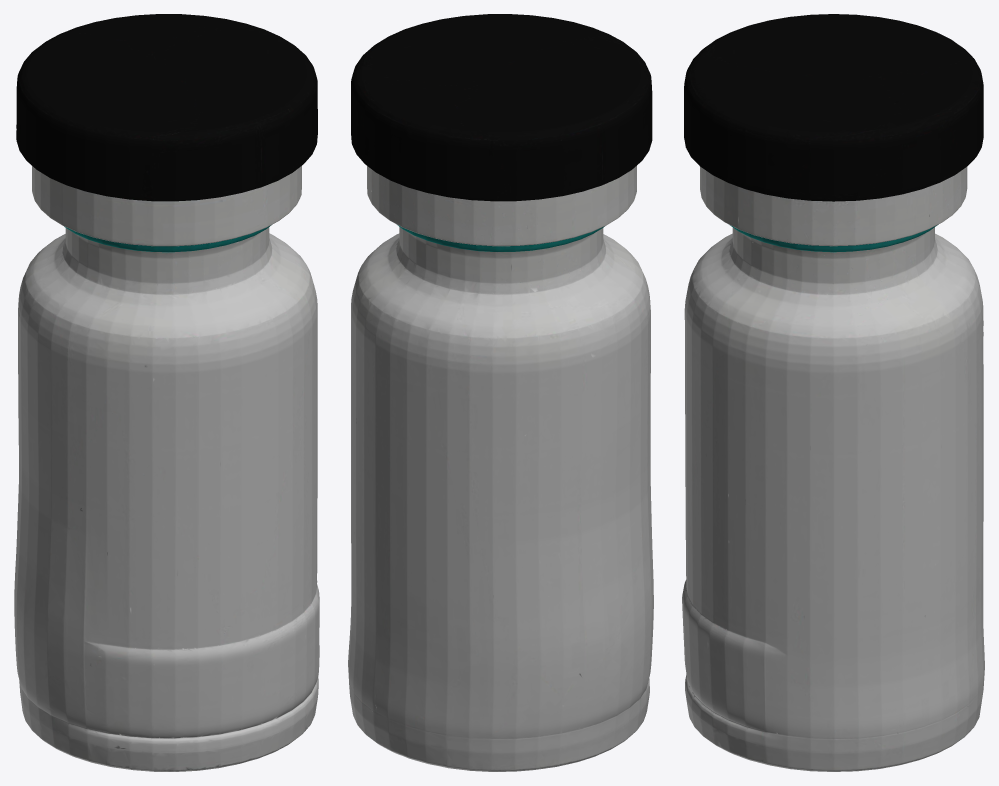
The model's file is vial.glb.
The picture shows the model from 3 angles, left to right: view 1: azimuth 30°, elevation 25°; view 2: azimuth 150°, elevation 25°; view 3: azimuth 270°, elevation 25°; orthographic projection.
Parts seen in each view (by area): view 1: material; view 2: material; view 3: material.
Part boxes in pixels (left/top/right/bottom): material: left=14, top=14, right=319, bottom=771; material: left=348, top=14, right=653, bottom=771; material: left=682, top=14, right=984, bottom=771.
Size of the model in its own units: 0.4815 by 1.11 by 0.4772.
Materials: 1 (1 with a texture image).
